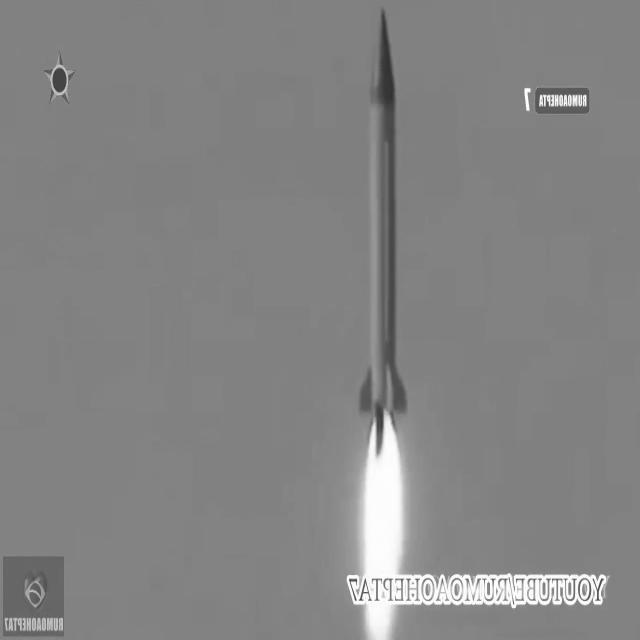missile: (349, 0, 411, 460)
